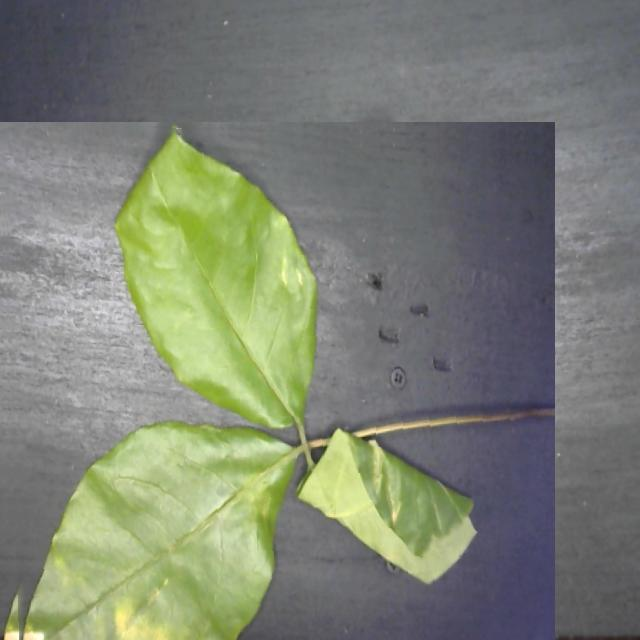biodegradable: (0, 122, 555, 640)
